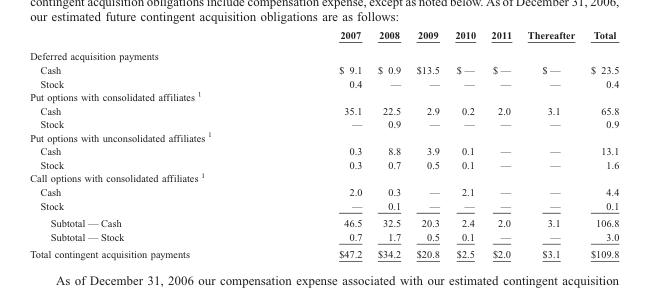table: (29, 28, 618, 259)
table column: (29, 28, 263, 259), (263, 28, 369, 259), (519, 28, 582, 259), (407, 28, 446, 259), (369, 28, 407, 259), (482, 28, 519, 259), (446, 28, 482, 259), (582, 28, 618, 259)
table column header: (29, 28, 618, 45)
table projected row header: (29, 45, 618, 62), (29, 129, 618, 144), (29, 89, 618, 103), (29, 170, 618, 184)
table row: (29, 28, 618, 45), (29, 45, 618, 62), (29, 213, 618, 229), (29, 129, 618, 144), (29, 198, 618, 213), (29, 229, 618, 244), (29, 244, 618, 259), (29, 62, 618, 76), (29, 89, 618, 103), (29, 103, 618, 117), (29, 170, 618, 184), (29, 184, 618, 198), (29, 76, 618, 89), (29, 144, 618, 157), (29, 157, 618, 170), (29, 117, 618, 129)
